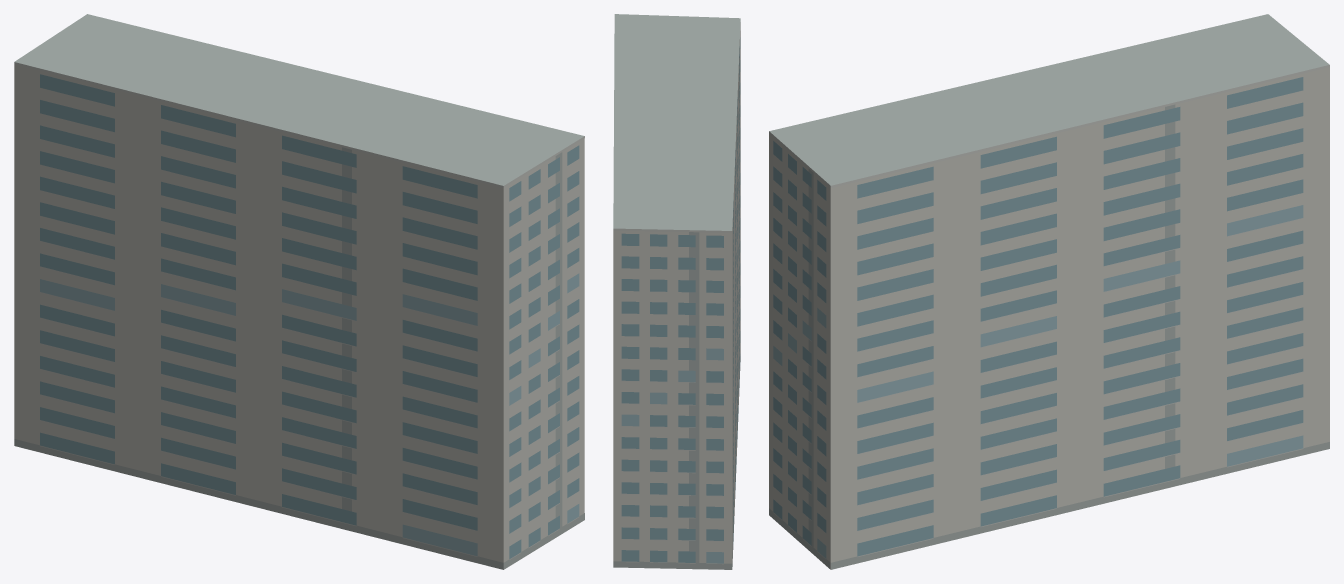
Rendered from residential-ff40de74-cf14-4860-9fd3-0086d381c6dd.glb.
3 renders of one model, left to right at view 1: azimuth 30°, elevation 25°; view 2: azimuth 150°, elevation 25°; view 3: azimuth 270°, elevation 25°, orthographic. The views are drawn at different scales.
Visible parts, largest first — view 1: residential-ff40de74-cf14-4860-9fd3-0086d381c6dd.tmp; view 2: residential-ff40de74-cf14-4860-9fd3-0086d381c6dd.tmp; view 3: residential-ff40de74-cf14-4860-9fd3-0086d381c6dd.tmp.
Part boxes in pixels (x1=…): residential-ff40de74-cf14-4860-9fd3-0086d381c6dd.tmp: x1=14, y1=14, x2=584, y2=569; residential-ff40de74-cf14-4860-9fd3-0086d381c6dd.tmp: x1=613, y1=14, x2=740, y2=569; residential-ff40de74-cf14-4860-9fd3-0086d381c6dd.tmp: x1=769, y1=14, x2=1329, y2=569.
Bounding box in the file's own units: 41.26 × 43 × 56.9.
